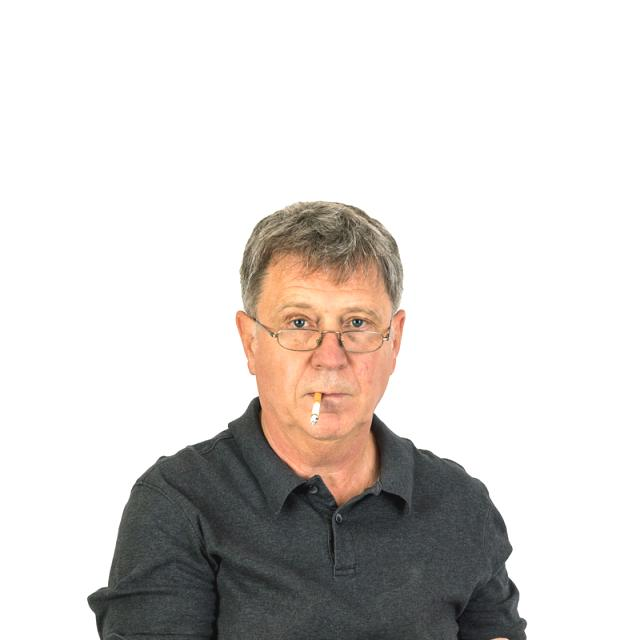cigarette: (308, 390, 322, 425)
